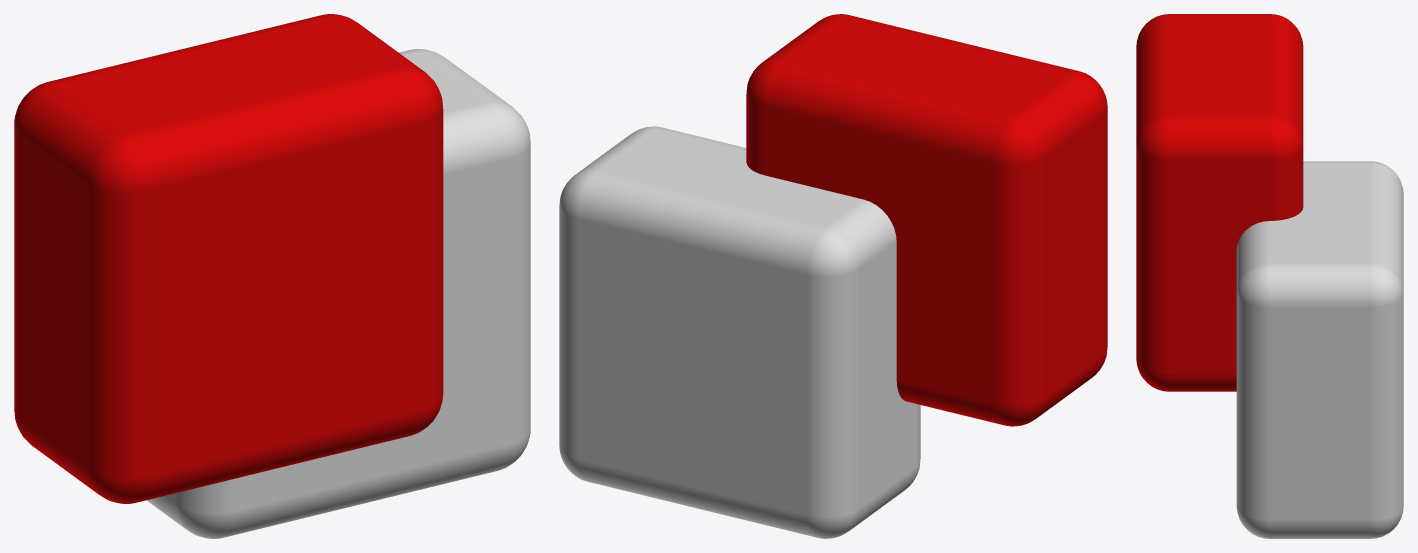
Rendered from random2.fbx.
3 views of the same model, side by side, from view 1: azimuth 30°, elevation 25°; view 2: azimuth 150°, elevation 25°; view 3: azimuth 270°, elevation 25° (orthographic). The views are drawn at different scales.
Visible parts, largest first — view 1: obj1; view 2: obj1; view 3: obj1.
Part boxes in pixels (x1,y1,x2,y2): obj1: [14, 14, 530, 538]; obj1: [559, 14, 1107, 538]; obj1: [1136, 14, 1403, 538].
Size of the model in its own units: 12.98 by 12 by 8.
